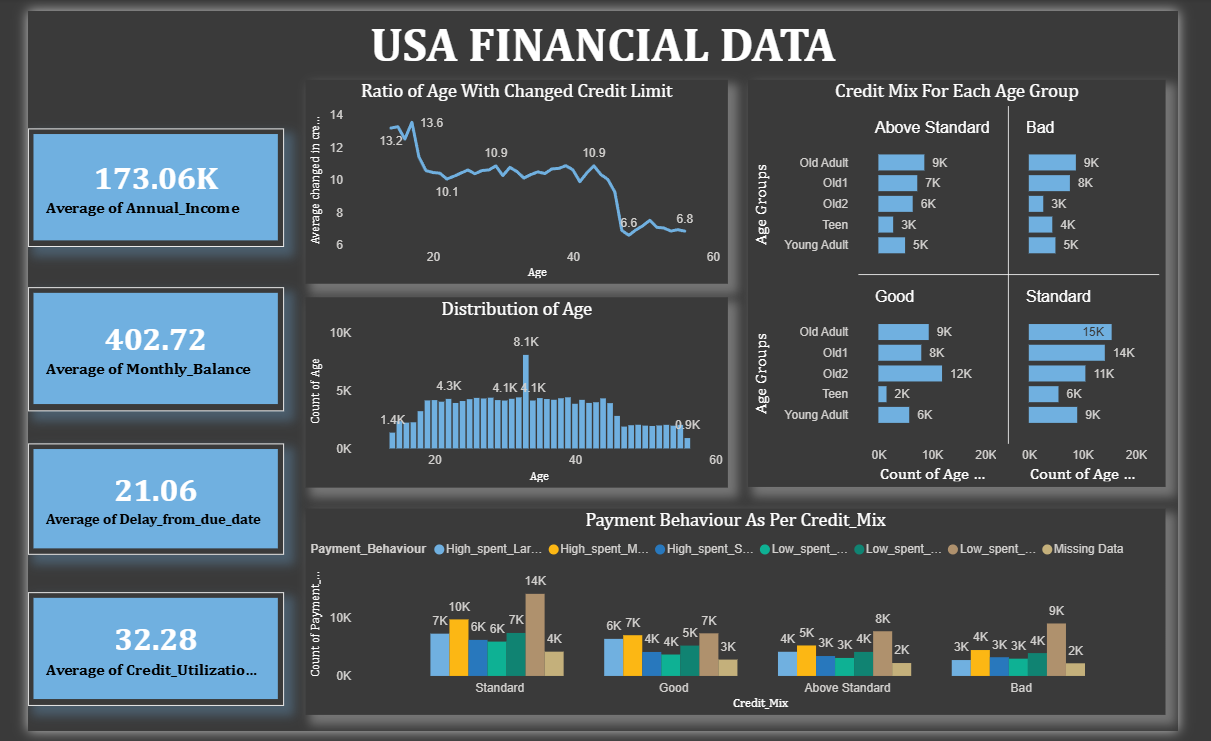

This screenshot's page, from the dashboard's own definition file:
{"tool":"powerbi","page":{"name":"Page 1","canvas":[1150,720],"ordinal":0},"visuals":[{"type":"textbox","box":[0,0,1150,68.8],"z":0},{"type":"cardVisual","title":"Average of Annual Income","fields":{"Data":["Avg(combined_df.Annual_Income)"]},"box":[0,117.5,256.2,118.8],"z":1000},{"type":"cardVisual","title":"a","fields":{"Data":["Avg(combined_df.Credit_Utilization_Ratio)"]},"box":[0,581.2,256.2,113.8],"z":2000},{"type":"cardVisual","title":"a","fields":{"Data":["Avg(combined_df.Delay_from_due_date)"]},"box":[0,432.5,256.2,111.2],"z":3000},{"type":"cardVisual","title":"a","fields":{"Data":["Avg(combined_df.Monthly_Balance)"]},"box":[0,276.2,256.2,123.8],"z":4000},{"type":"lineChart","title":"Ratio of Age With Changed Credit  Limit","fields":{"Category":["combined_df.Age"],"Y":["Avg(combined_df.Changed_Credit_Limit)"]},"box":[277.5,68.8,422.5,203.8],"z":5000},{"type":"clusteredColumnChart","title":"Distribution of Age","fields":{"Y":["CountNonNull(combined_df.Age)"],"Category":["combined_df.Age"]},"box":[277.5,286.2,422.5,190],"z":6000},{"type":"clusteredBarChart","title":"Credit Mix For Each Age Group","fields":{"Category":["combined_df.Age Groups"],"Y":["CountNonNull(combined_df.Age Groups)"],"Rows":["combined_df.Credit_Mix"]},"box":[720,68.8,417.5,407.5],"z":7000},{"type":"clusteredColumnChart","title":"Payment Behaviour As Per Credit_Mix ","fields":{"Category":["combined_df.Credit_Mix"],"Series":["combined_df.Payment_Behaviour"],"Y":["CountNonNull(combined_df.Payment_Behaviour)"]},"box":[277.5,497.5,860,206.2],"z":8000}]}

Visuals, with their boxes in screenshot pixels (x1, y1, x2, y2), scaled from the page's 1150x720 canvas onto the 1211x741 screenshot:
textbox: (x1=0, y1=0, x2=1210, y2=71)
"Average of Annual Income" cardVisual: (x1=0, y1=121, x2=270, y2=243)
"a" cardVisual: (x1=0, y1=598, x2=270, y2=715)
"a" cardVisual: (x1=0, y1=445, x2=270, y2=560)
"a" cardVisual: (x1=0, y1=284, x2=270, y2=412)
"Ratio of Age With Changed Credit  Limit" lineChart: (x1=292, y1=71, x2=737, y2=281)
"Distribution of Age" clusteredColumnChart: (x1=292, y1=295, x2=737, y2=490)
"Credit Mix For Each Age Group" clusteredBarChart: (x1=758, y1=71, x2=1198, y2=490)
"Payment Behaviour As Per Credit_Mix " clusteredColumnChart: (x1=292, y1=512, x2=1198, y2=724)
